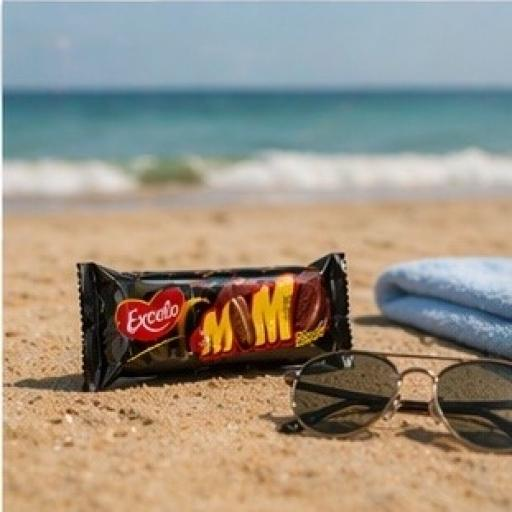MOMO: (63, 238, 352, 398)
